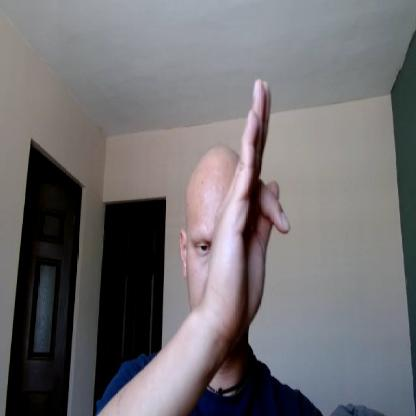F: (206, 77, 290, 337)
